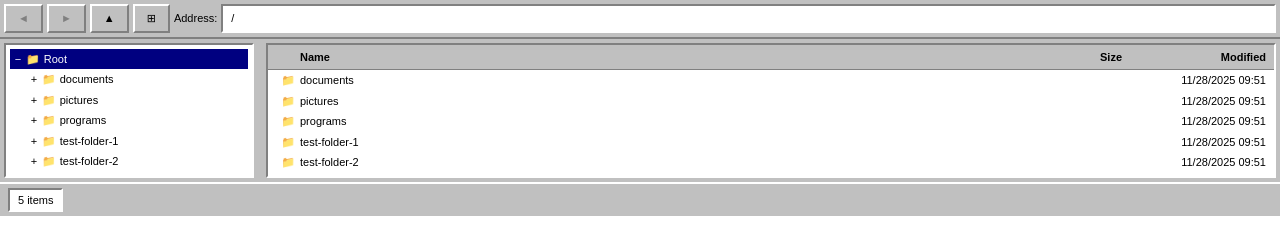
Scenario: Explorer - Navigation History Management › should navigate back to previous path when back button is clicked
This screenshot has width=1280, height=233.
// Navigate to a folder - get from file list (second occurrence)
Double-click the text "test-folder-1" below "Name" at (329, 142), box [300, 136, 359, 148]
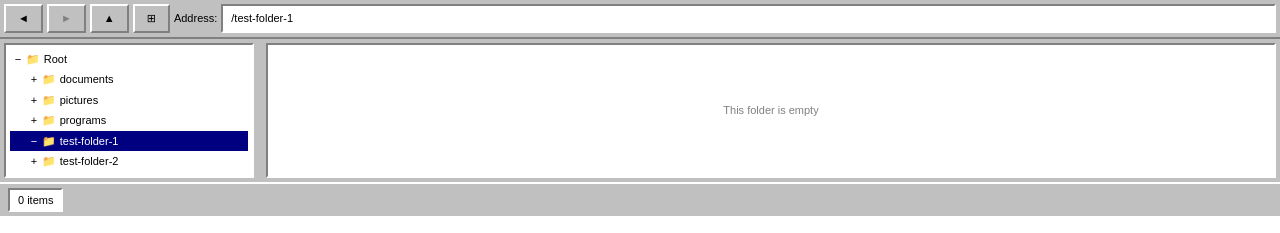
Now the field named "Address bar" holds "/test-folder-1", box [221, 4, 1276, 32]
// Click back button
Click the button named "Back" at (23, 18), box [4, 4, 43, 32]
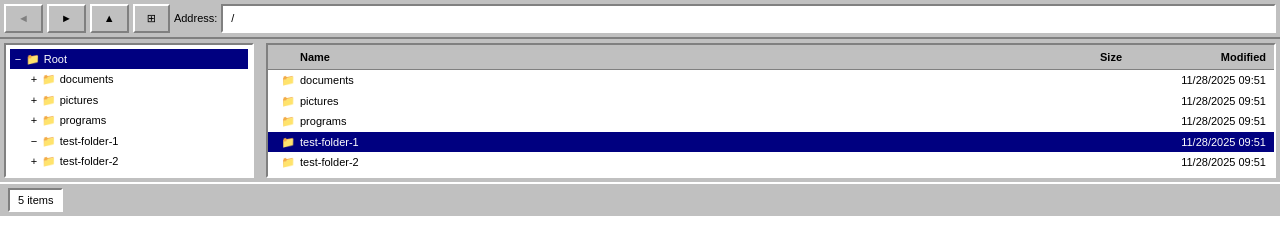
Now the field named "Address bar" holds "/", box [221, 4, 1276, 32]
